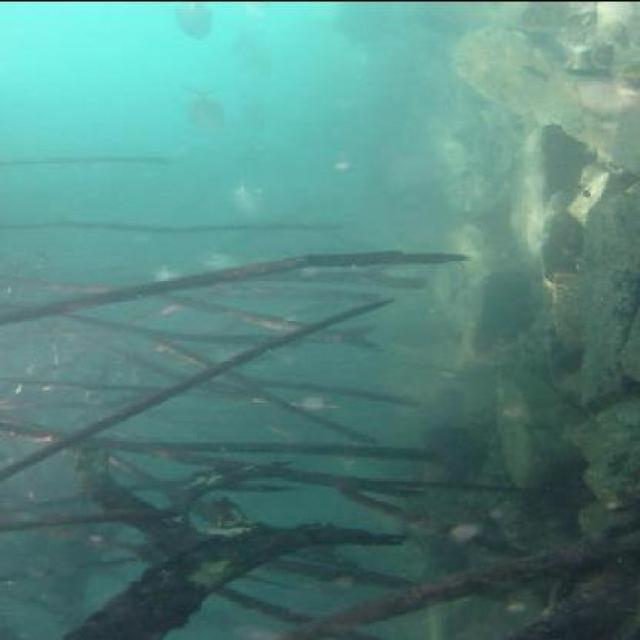Caranx_sexfasciatus_juvenile: (181, 75, 236, 134), (224, 163, 278, 215), (229, 24, 280, 71), (162, 0, 218, 37)
